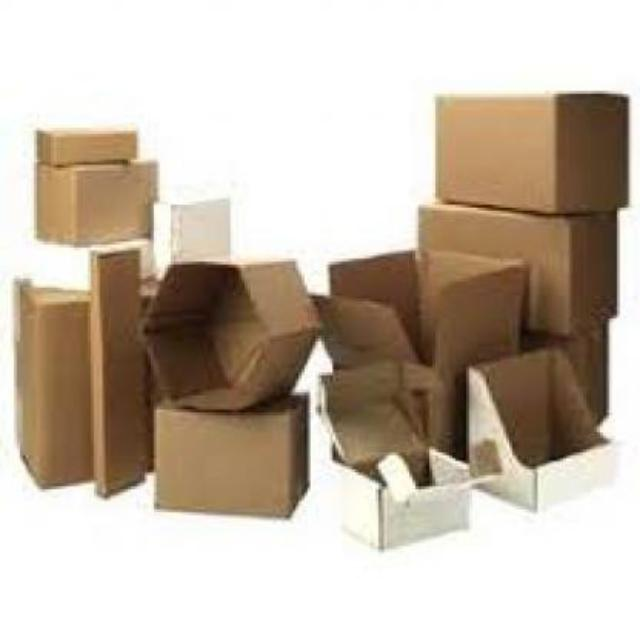cardboard_box: (317, 232, 513, 460), (14, 274, 160, 494), (398, 196, 626, 336), (152, 247, 326, 411), (423, 90, 639, 220), (408, 320, 624, 436), (459, 360, 605, 528), (317, 381, 458, 554), (138, 404, 318, 520), (26, 158, 176, 256), (39, 130, 148, 163)
